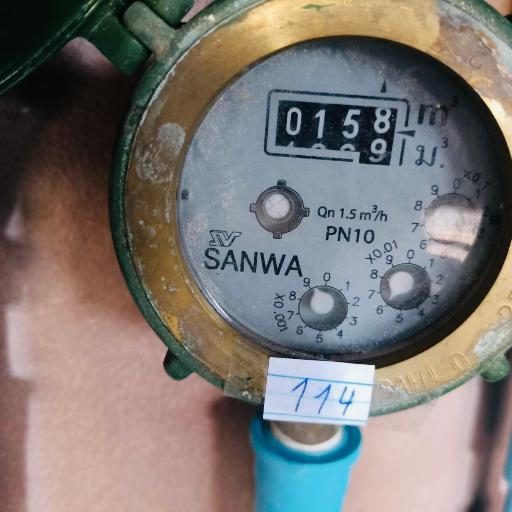0: (275, 99, 309, 148)
1: (304, 101, 340, 151)
5: (335, 103, 365, 153)
8: (359, 106, 397, 167)
border_water_meter_number: (263, 89, 411, 167)
